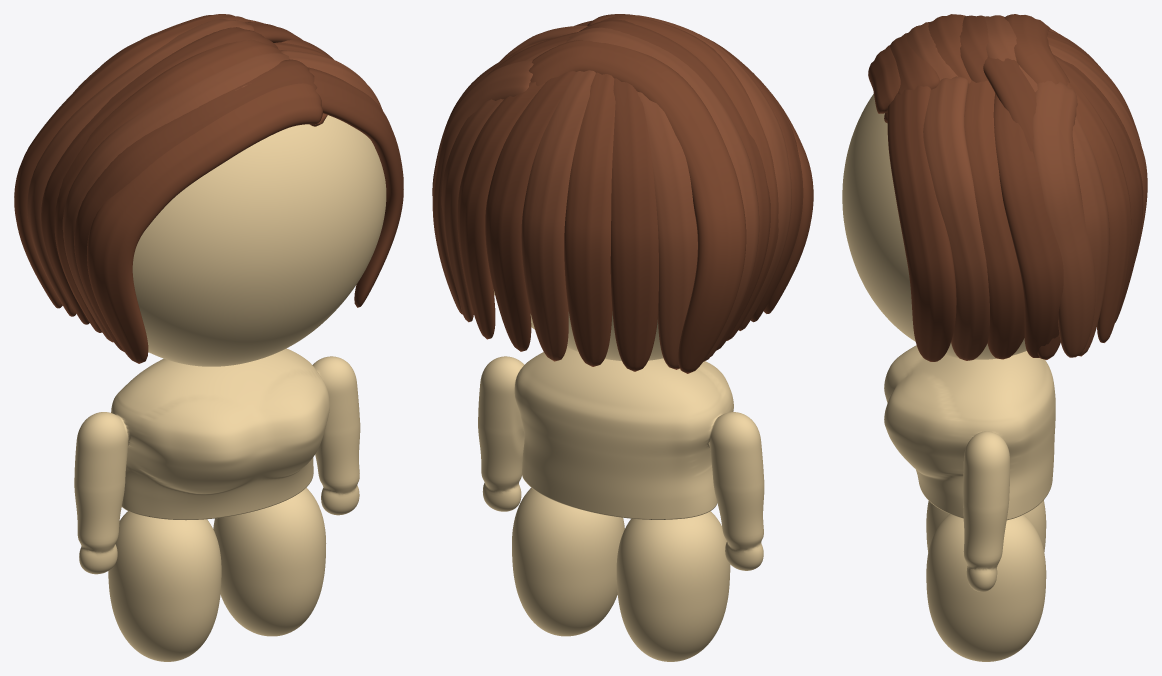
File: Feminine-hands-round-base.glb
3 views of the same model, side by side, from view 1: azimuth 30°, elevation 25°; view 2: azimuth 150°, elevation 25°; view 3: azimuth 270°, elevation 25° (orthographic).
Parts seen in each view (by area): view 1: Skin / soft oval head, Skin / rounded torso, Hair / Bob / side sweep 0, Skin / leg blob -1, Skin / leg blob 1, Hair / Bob / side sweep 1, Hair / Bob / side sweep 2, Hair / Bob / side sweep 3, Hair / Bob / side sweep 7, Hair / Bob / side sweep 6, Hair / Bob / side sweep 5, Hair / Bob / side sweep 4 (+2 smaller); view 2: Skin / rounded torso, Hair / Bob / side sweep 6, Skin / leg blob -1, Skin / leg blob 1, Hair / Bob / side sweep 19, Hair / Bob / side sweep 18, Hair / Bob / side sweep 17, Hair / Bob / side sweep 16, Hair / Bob / side sweep 20, Hair / Bob / side sweep 15, Hair / Bob / side sweep 5, Hair / Bob / side sweep 3 (+9 smaller); view 3: Skin / rounded torso, Skin / leg blob 1, Hair / Bob / side sweep 7, Skin / soft oval head, Hair / Bob / side sweep 8, Hair / Bob / side sweep 11, Hair / Bob / side sweep 10, Hair / Bob / side sweep 9, Hair / Bob / side sweep 15, Hair / Bob / side sweep 14, Hair / Bob / side sweep 16, Hair / Bob / side sweep 13 (+10 smaller).
Part boxes in pixels (bbox=[...]): Skin / soft oval head: bbox=[132, 115, 386, 366]; Skin / rounded torso: bbox=[74, 348, 360, 574]; Hair / Bob / side sweep 0: bbox=[87, 83, 327, 363]; Skin / leg blob -1: bbox=[108, 511, 221, 661]; Skin / leg blob 1: bbox=[213, 487, 326, 636]; Hair / Bob / side sweep 1: bbox=[74, 59, 317, 351]; Hair / Bob / side sweep 2: bbox=[62, 52, 289, 342]; Hair / Bob / side sweep 3: bbox=[54, 39, 281, 332]; Hair / Bob / side sweep 7: bbox=[308, 67, 403, 307]; Hair / Bob / side sweep 6: bbox=[14, 14, 250, 308]; Hair / Bob / side sweep 5: bbox=[27, 18, 253, 316]; Hair / Bob / side sweep 4: bbox=[41, 27, 278, 324]; Skin / rounded torso: bbox=[478, 347, 764, 570]; Hair / Bob / side sweep 6: bbox=[529, 40, 746, 373]; Skin / leg blob -1: bbox=[616, 511, 730, 661]; Skin / leg blob 1: bbox=[512, 487, 624, 636]; Hair / Bob / side sweep 19: bbox=[610, 78, 658, 371]; Hair / Bob / side sweep 18: bbox=[564, 72, 615, 366]; Hair / Bob / side sweep 17: bbox=[521, 70, 595, 361]; Hair / Bob / side sweep 16: bbox=[485, 71, 576, 351]; Hair / Bob / side sweep 20: bbox=[637, 91, 697, 369]; Hair / Bob / side sweep 15: bbox=[457, 82, 545, 339]; Hair / Bob / side sweep 5: bbox=[565, 27, 759, 361]; Hair / Bob / side sweep 3: bbox=[600, 15, 778, 340]; Skin / rounded torso: bbox=[884, 345, 1055, 591]; Skin / leg blob 1: bbox=[926, 514, 1046, 661]; Hair / Bob / side sweep 7: bbox=[887, 85, 956, 361]; Skin / soft oval head: bbox=[842, 93, 1026, 359]; Hair / Bob / side sweep 8: bbox=[923, 76, 989, 360]; Hair / Bob / side sweep 11: bbox=[1032, 80, 1095, 357]; Hair / Bob / side sweep 10: bbox=[993, 93, 1063, 357]; Hair / Bob / side sweep 9: bbox=[964, 80, 1024, 359]; Hair / Bob / side sweep 15: bbox=[1067, 76, 1131, 342]; Hair / Bob / side sweep 14: bbox=[1019, 65, 1109, 356]; Hair / Bob / side sweep 16: bbox=[1053, 54, 1143, 322]; Hair / Bob / side sweep 13: bbox=[983, 57, 1060, 359].
Size of the model in its own units: 1.02 by 1.86 by 0.8526.
